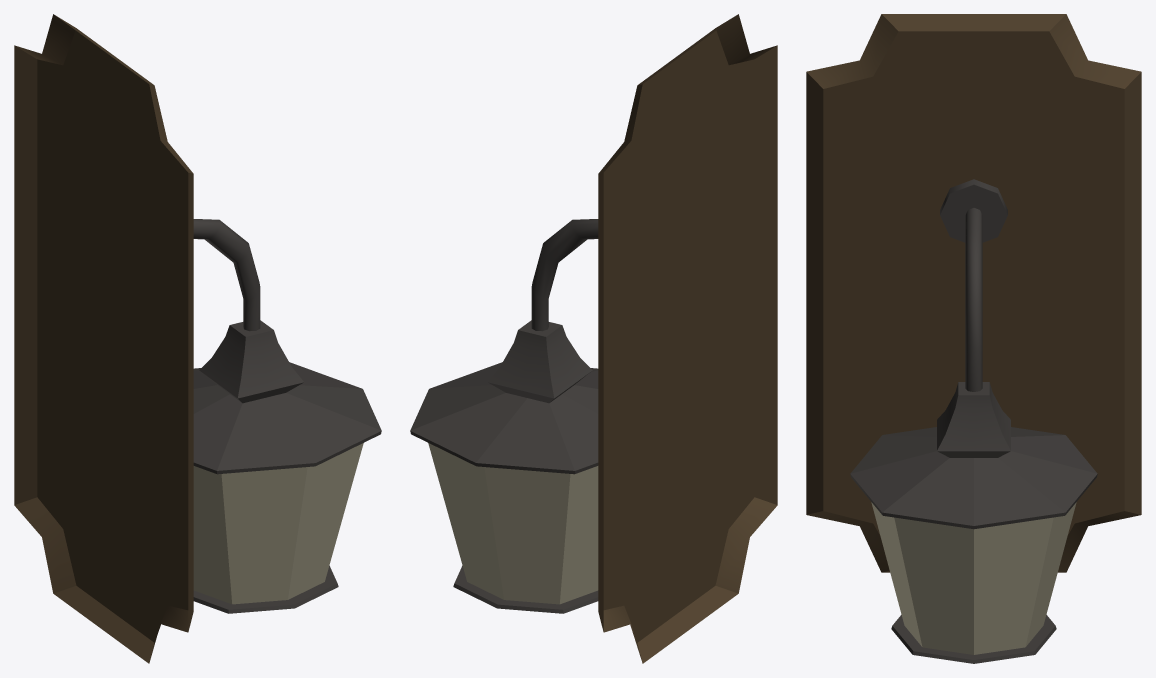
Rendered from PS_Sconce.fbx.
3 views of the same model, side by side, from view 1: azimuth 30°, elevation 25°; view 2: azimuth 150°, elevation 25°; view 3: azimuth 270°, elevation 25° (orthographic). The views are drawn at different scales.
Visible parts, largest first — view 1: PS_Sconce; view 2: PS_Sconce; view 3: PS_Sconce.
Part boxes in pixels (<box>): PS_Sconce: <box>14,14,381,663</box>; PS_Sconce: <box>410,14,777,663</box>; PS_Sconce: <box>806,14,1141,663</box>.
Bounding box in the file's own units: 0.4725 × 1 × 0.5444.
